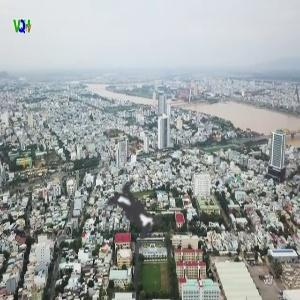drone: (64, 138, 205, 279)
